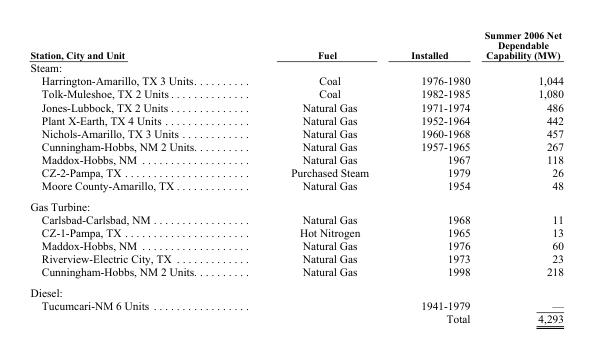table: (29, 29, 562, 324)
table column: (29, 29, 243, 324), (243, 29, 389, 324), (389, 29, 476, 324), (476, 29, 562, 324)
table column header: (29, 29, 562, 60)
table projected row header: (29, 195, 562, 212), (29, 281, 562, 298), (29, 60, 562, 74)
table row: (29, 29, 562, 60), (29, 178, 562, 195), (29, 195, 562, 212), (29, 264, 562, 281), (29, 281, 562, 298), (29, 60, 562, 74), (29, 74, 562, 87), (29, 87, 562, 100), (29, 100, 562, 113), (29, 113, 562, 126), (29, 126, 562, 139), (29, 139, 562, 152), (29, 152, 562, 165), (29, 165, 562, 178), (29, 212, 562, 225), (29, 225, 562, 238), (29, 238, 562, 251), (29, 251, 562, 264), (29, 298, 562, 311), (29, 311, 562, 324)
table spanning cell: (29, 298, 243, 324)
